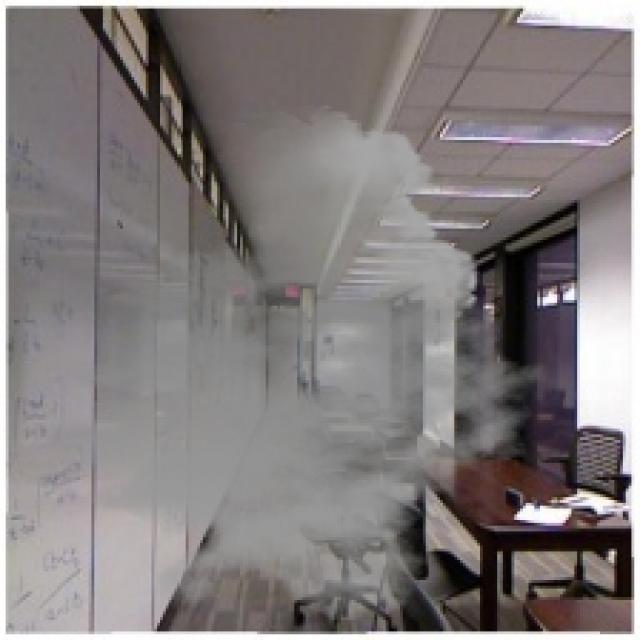Smoke: (2, 103, 548, 623)
